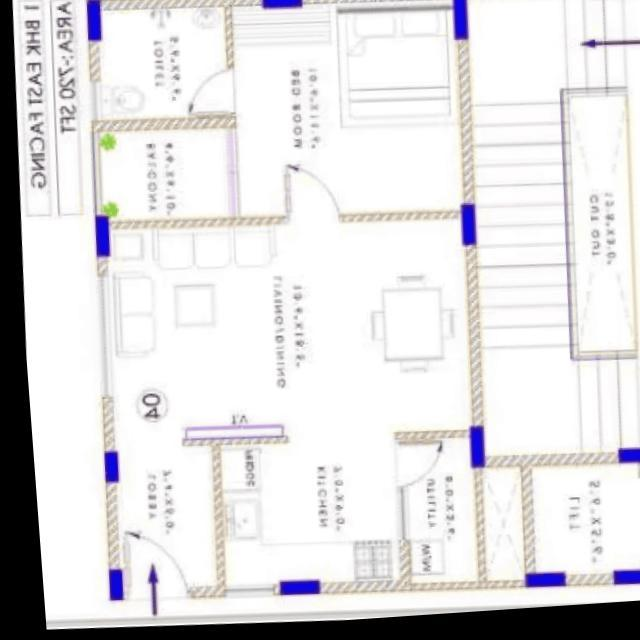Balcony-Sitout: (92, 125, 234, 222)
Bedroom: (227, 0, 466, 219)
Dining: (362, 279, 450, 383)
Enterance-Foyer: (99, 450, 210, 606)
Kitchen: (203, 442, 392, 598)
Living: (93, 224, 280, 448)
Toilet: (89, 3, 228, 126)
Utility: (392, 442, 470, 597)
